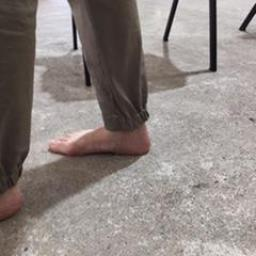Medial View -Right Foot-: (44, 100, 162, 166)
